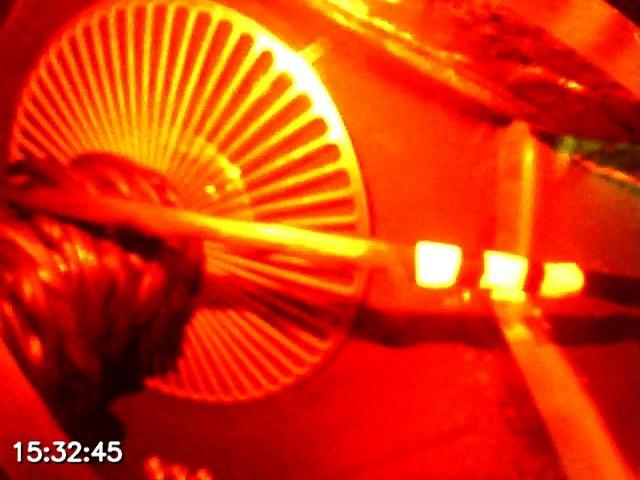white-dots: (414, 239, 585, 298)
